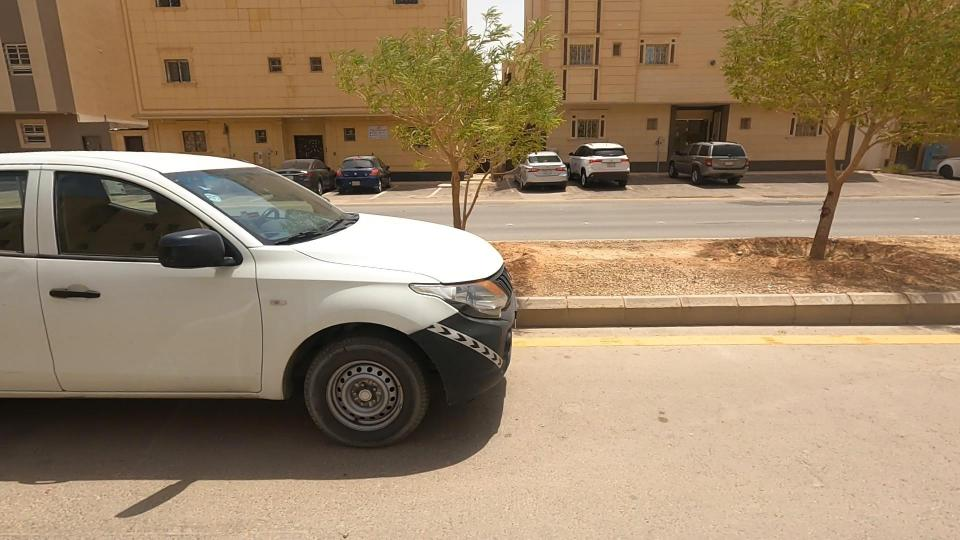CLUTTER_SIDEWALK: (411, 195, 856, 336)
